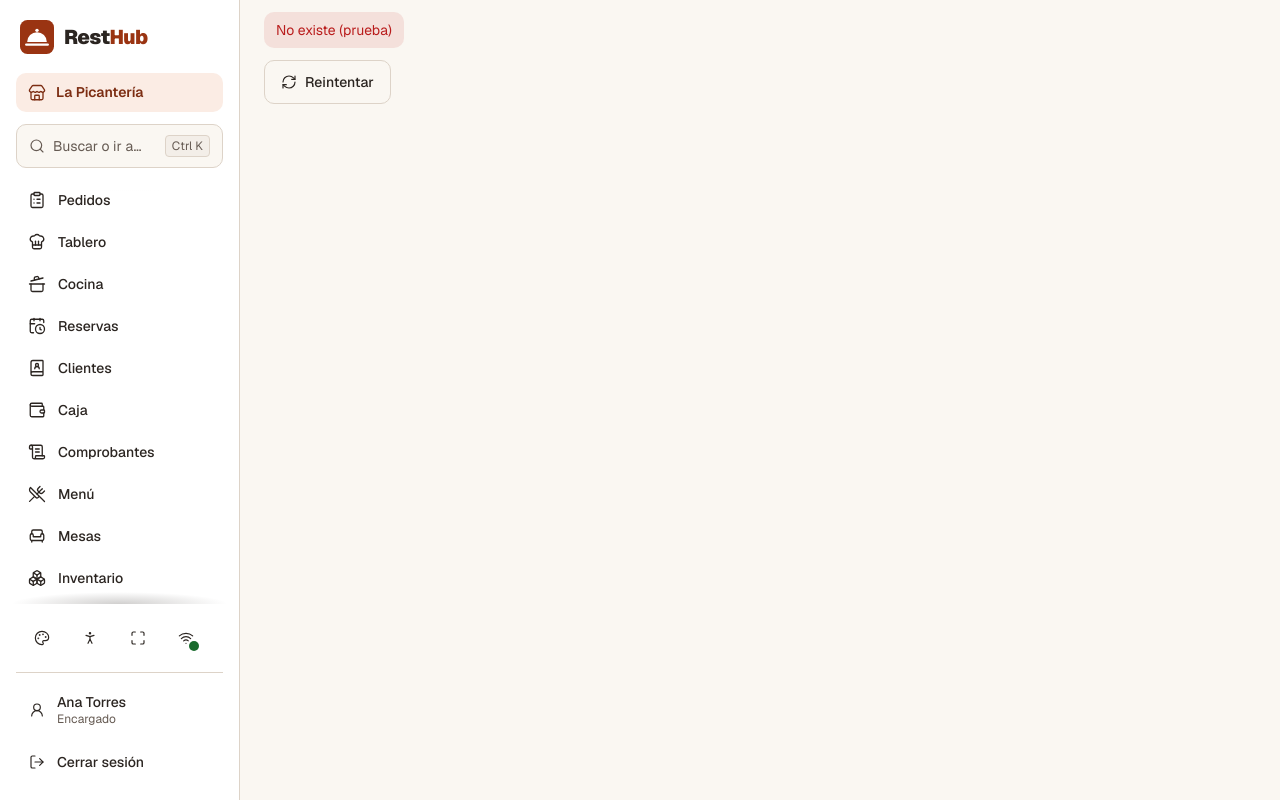
it: la paleta «Buscar o ir a…» › se abre también con el botón de la barra lateral
Click the button "Buscar o ir a… Ctrl K".
click(120, 146)  # box 16,124 -> 223,168
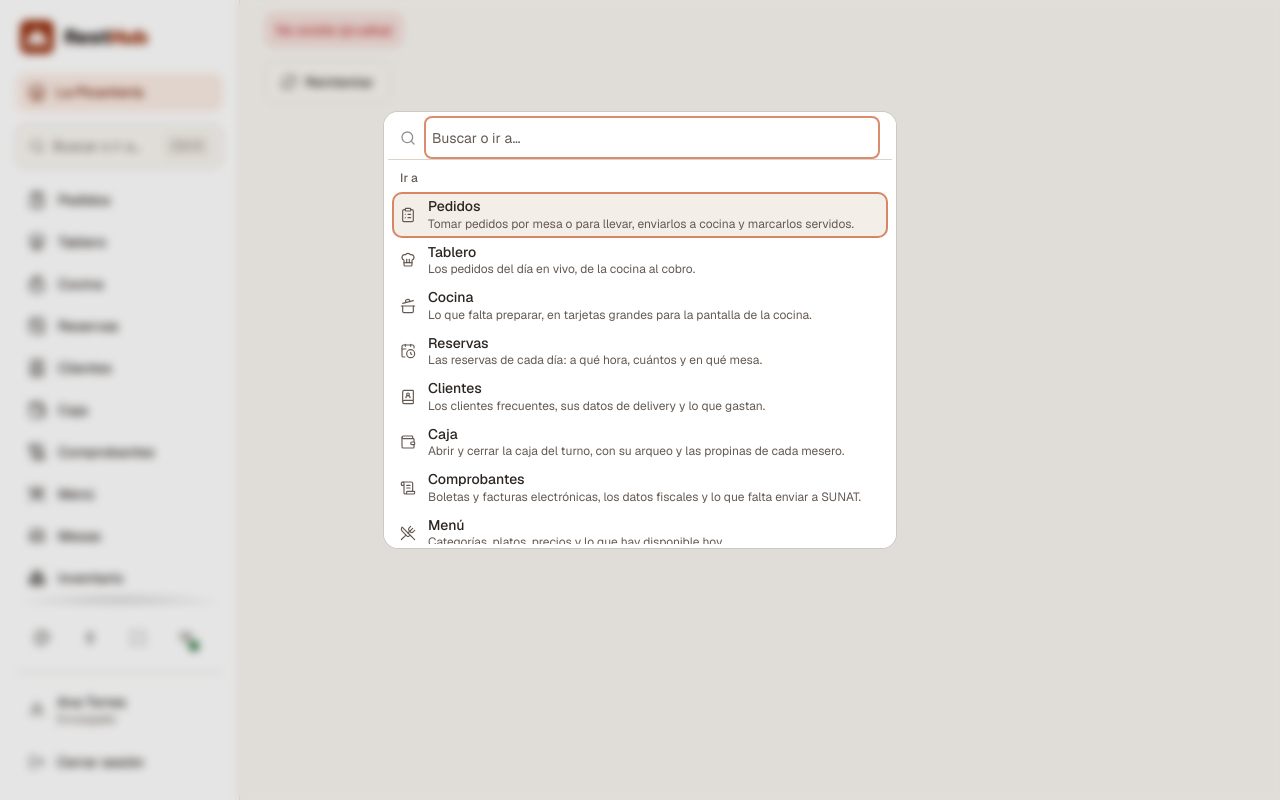
Check: the dialog named "Buscar o ir a…" is shown, box 384,112 -> 896,548
